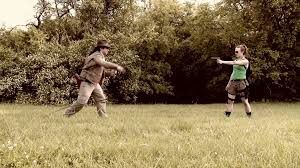Gun: (203, 55, 224, 62)
